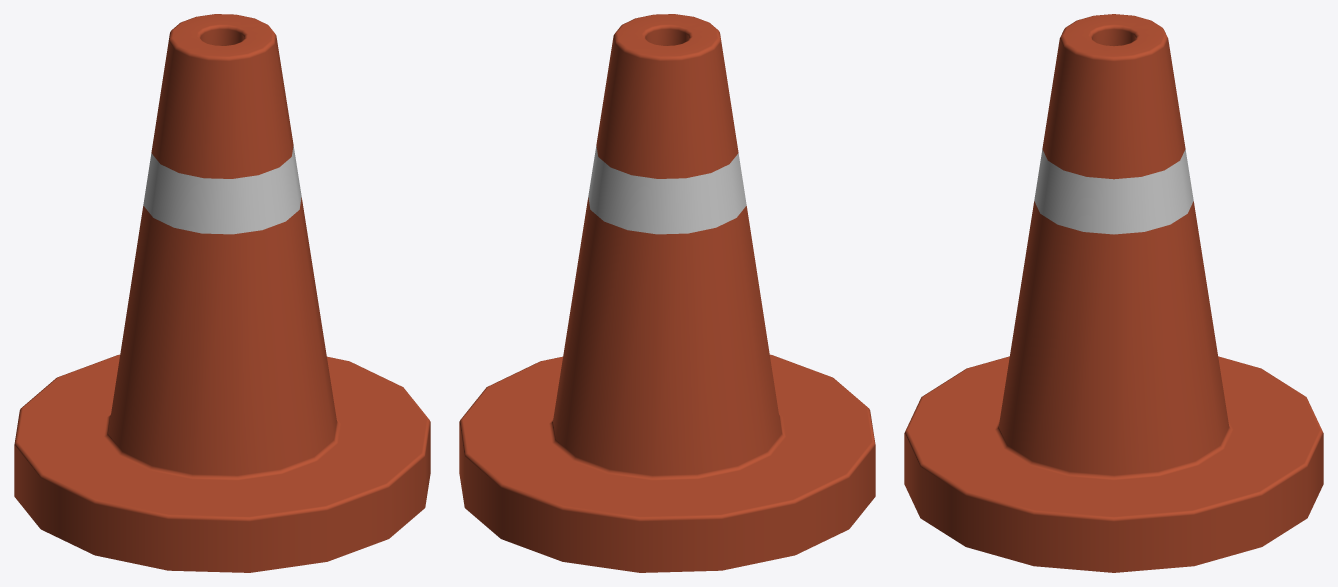
The picture shows the model from 3 angles, left to right: view 1: azimuth 30°, elevation 25°; view 2: azimuth 150°, elevation 25°; view 3: azimuth 270°, elevation 25°; orthographic projection.
Parts seen in each view (by area): view 1: Plane; view 2: Plane; view 3: Plane.
Part boxes in pixels (left/top/right/bottom): Plane: left=14, top=14, right=430, bottom=572; Plane: left=459, top=14, right=875, bottom=572; Plane: left=904, top=14, right=1323, bottom=572.
Bounding box in the file's own units: 86.14 × 102 × 86.14.
